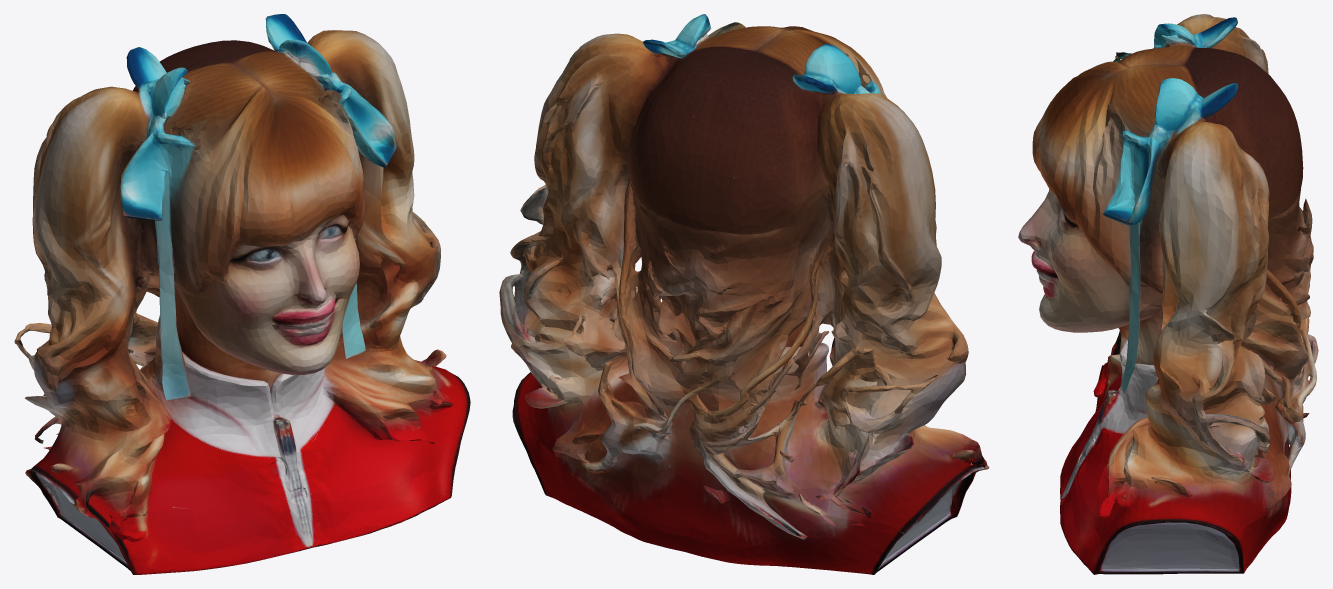
3 views of the same model, side by side, from view 1: azimuth 30°, elevation 25°; view 2: azimuth 150°, elevation 25°; view 3: azimuth 270°, elevation 25° (orthographic). The views are drawn at different scales.
Visible parts, largest first — view 1: world; view 2: world; view 3: world.
Part boxes in pixels (bbox=[...]): world: bbox=[14, 14, 470, 574]; world: bbox=[499, 14, 989, 574]; world: bbox=[1018, 14, 1318, 574].
Size of the model in its own units: 0.9588 by 1 by 0.6157.
Materials: 1 (1 with a texture image).
